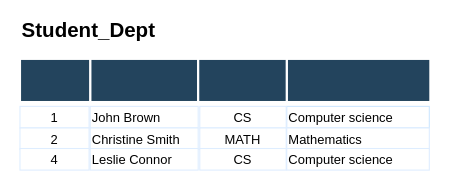
The diagram is 449 pixels wide and 189 high, and some of its shapes have lost their labels. Here are the shapes that lost their labels. From the top down, the box of each, then its label:
(18, 57, 91, 103): Student_id
(89, 57, 199, 103): Student name
(197, 57, 287, 103): Dept_id
(285, 57, 431, 103): Department_name
